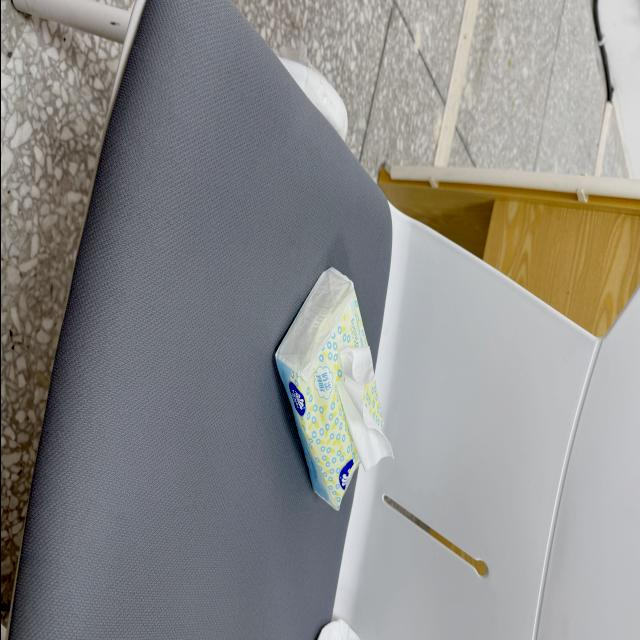tissue: (275, 268, 390, 509), (336, 347, 391, 470), (317, 620, 358, 639)
